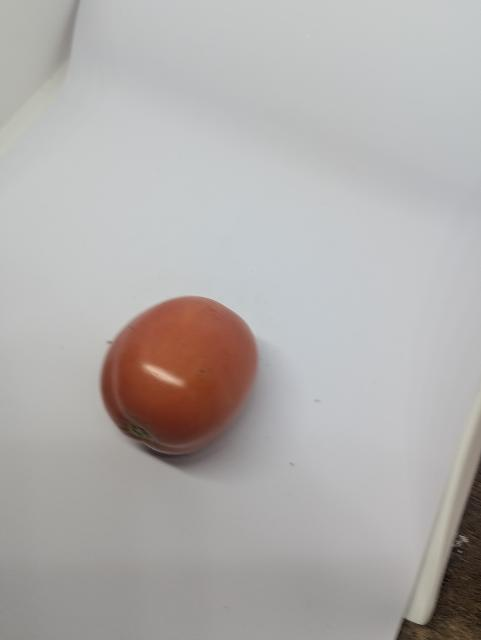red: (96, 289, 267, 465)
